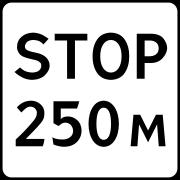Stop: (13, 11, 168, 94)
